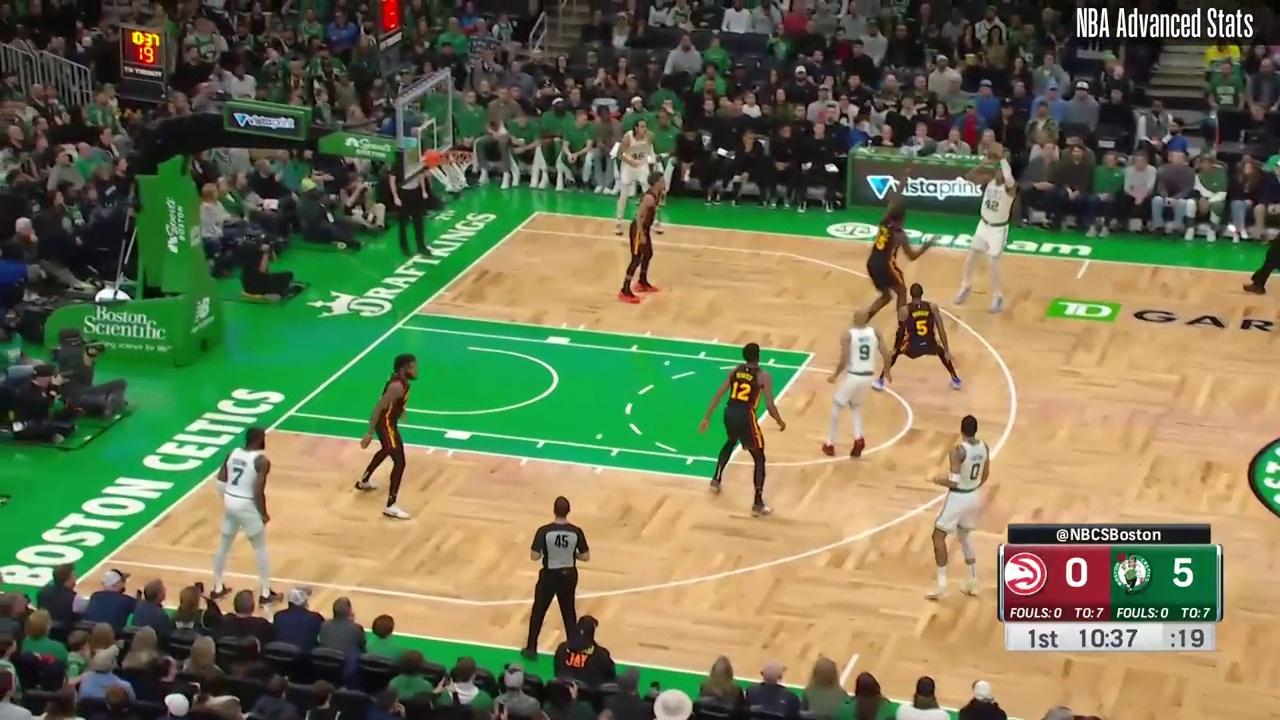3_dx: (512, 224, 524, 234)
3_sx: (97, 553, 113, 566)
b_dx: (531, 206, 543, 217)
free_adx: (806, 348, 818, 360)
free_bdx: (410, 306, 423, 318)
free_bsx: (264, 422, 277, 434)
mid_dx: (1073, 273, 1085, 283)
mid_sx: (849, 648, 863, 662)
referee: (521, 497, 590, 658), (389, 144, 432, 256)
team: (212, 427, 285, 606), (927, 413, 990, 601), (953, 145, 1017, 313), (822, 306, 891, 457), (615, 119, 664, 235)
team1: (699, 343, 784, 517), (858, 168, 940, 334), (356, 351, 417, 523), (871, 283, 964, 391), (617, 171, 667, 306)
timer: (1076, 623, 1142, 652)
